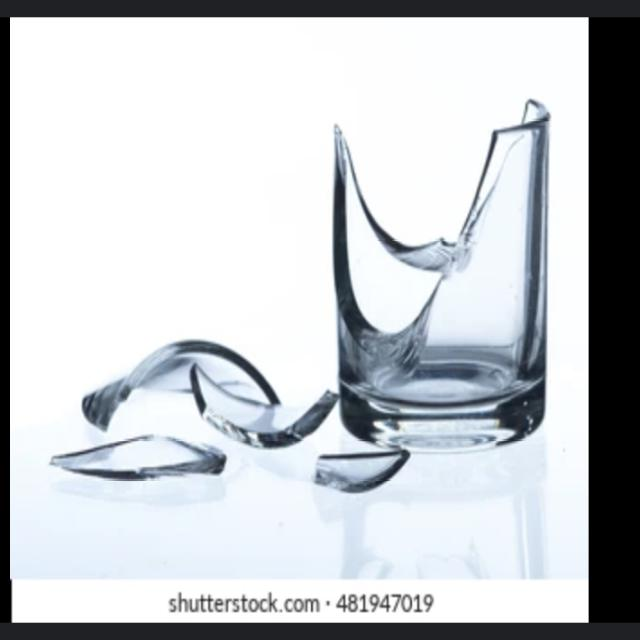PecahanKaca: (55, 96, 553, 490), (329, 97, 551, 453), (48, 433, 226, 481)
